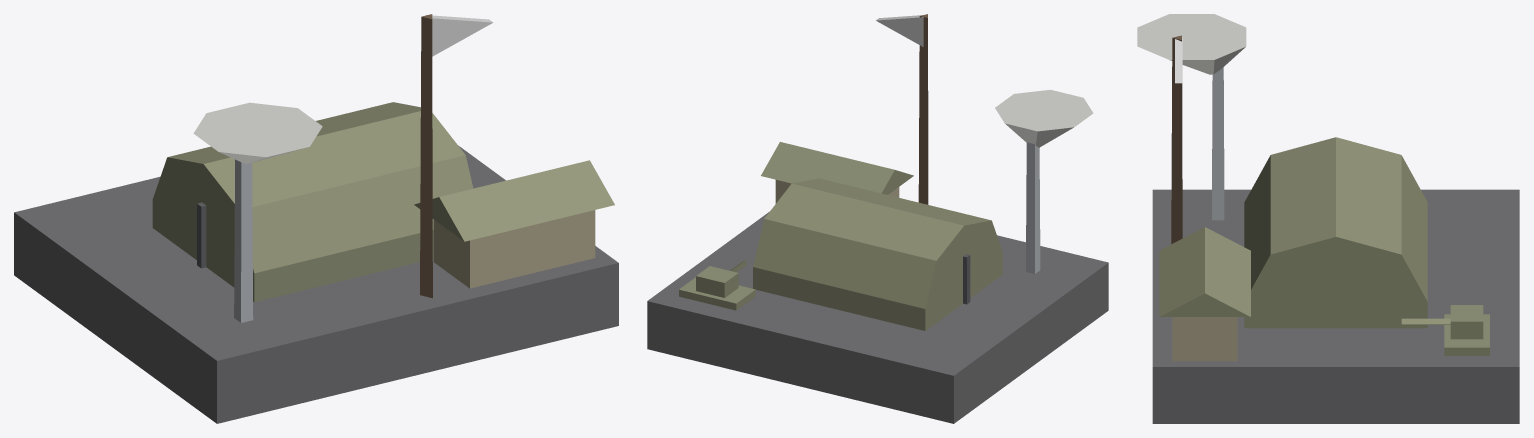
File: military-base.glb
3 renders of one model, left to right at view 1: azimuth 30°, elevation 25°; view 2: azimuth 150°, elevation 25°; view 3: azimuth 270°, elevation 25°, orthographic. The views are drawn at different scales.
Visible parts, largest first — view 1: LOD0; view 2: LOD0; view 3: LOD0.
Boxes of the visible parts, x1,y1,x2,y2 form: LOD0: [14, 14, 618, 423]; LOD0: [647, 14, 1108, 423]; LOD0: [1137, 14, 1519, 423].
Size of what is drawn, in the model's own units: 0.32 by 0.26 by 0.2916.
